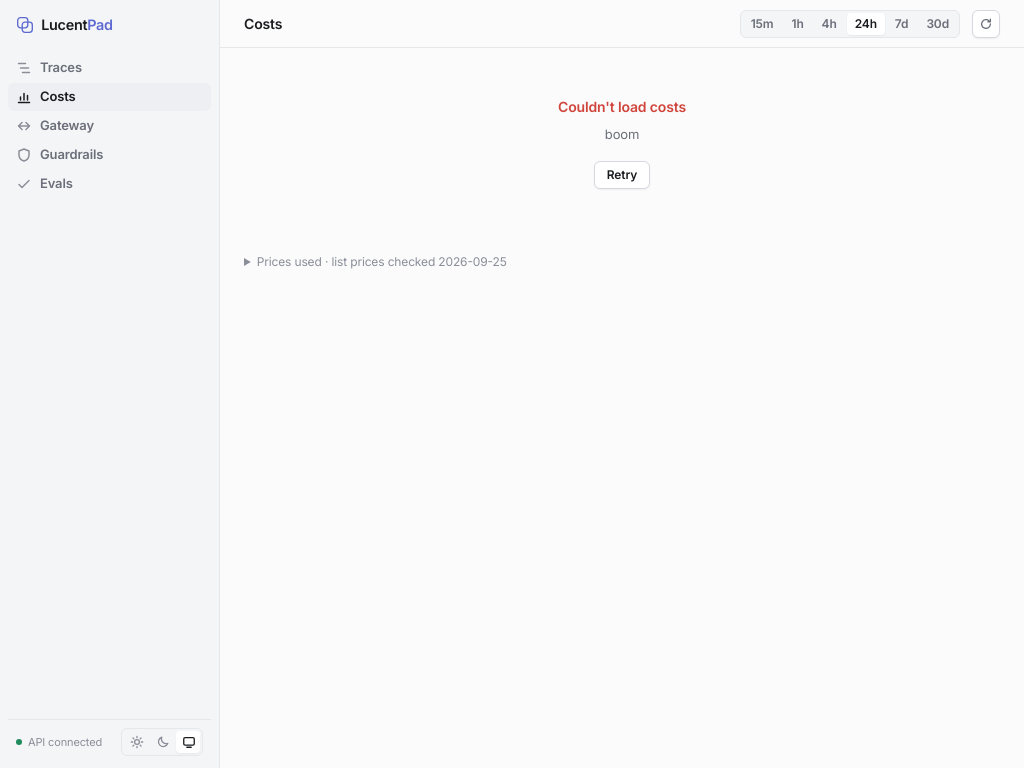
Test: Costs page › offers a retry when the costs fail to load
Expected: the text "Couldn't load costs" is shown, [558,96,686,117]
Click the button "Retry": (622,174) [594,160,650,188]
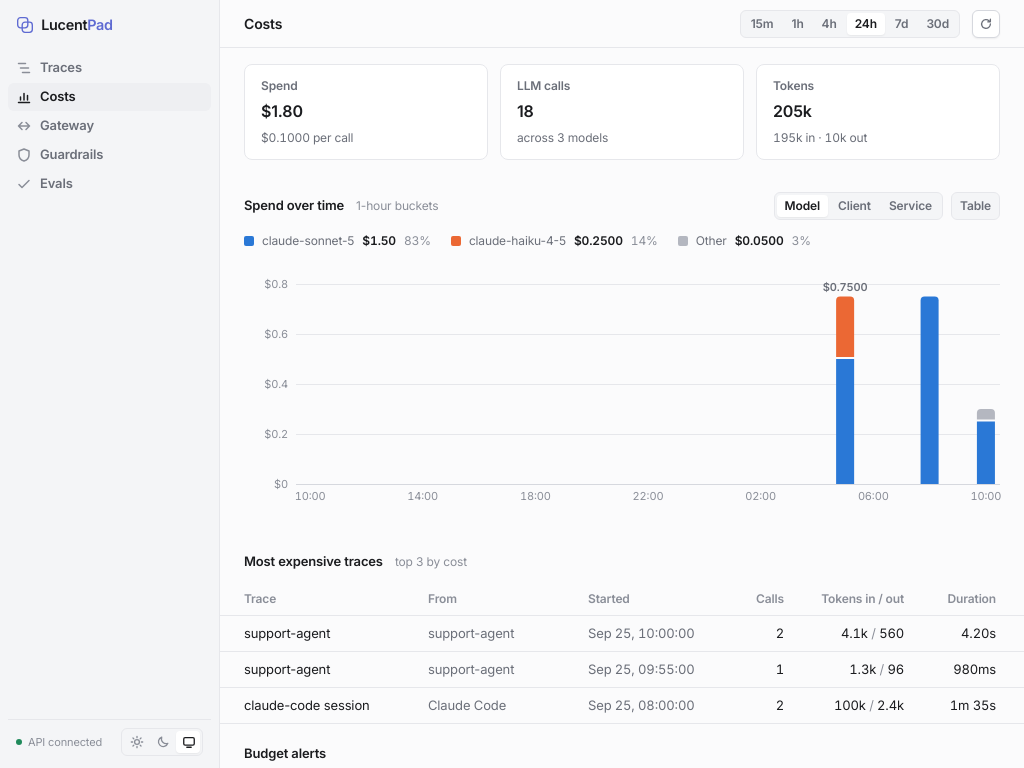
Expected: the element named "Totals for the range" is shown, [220,48,1023,176]
